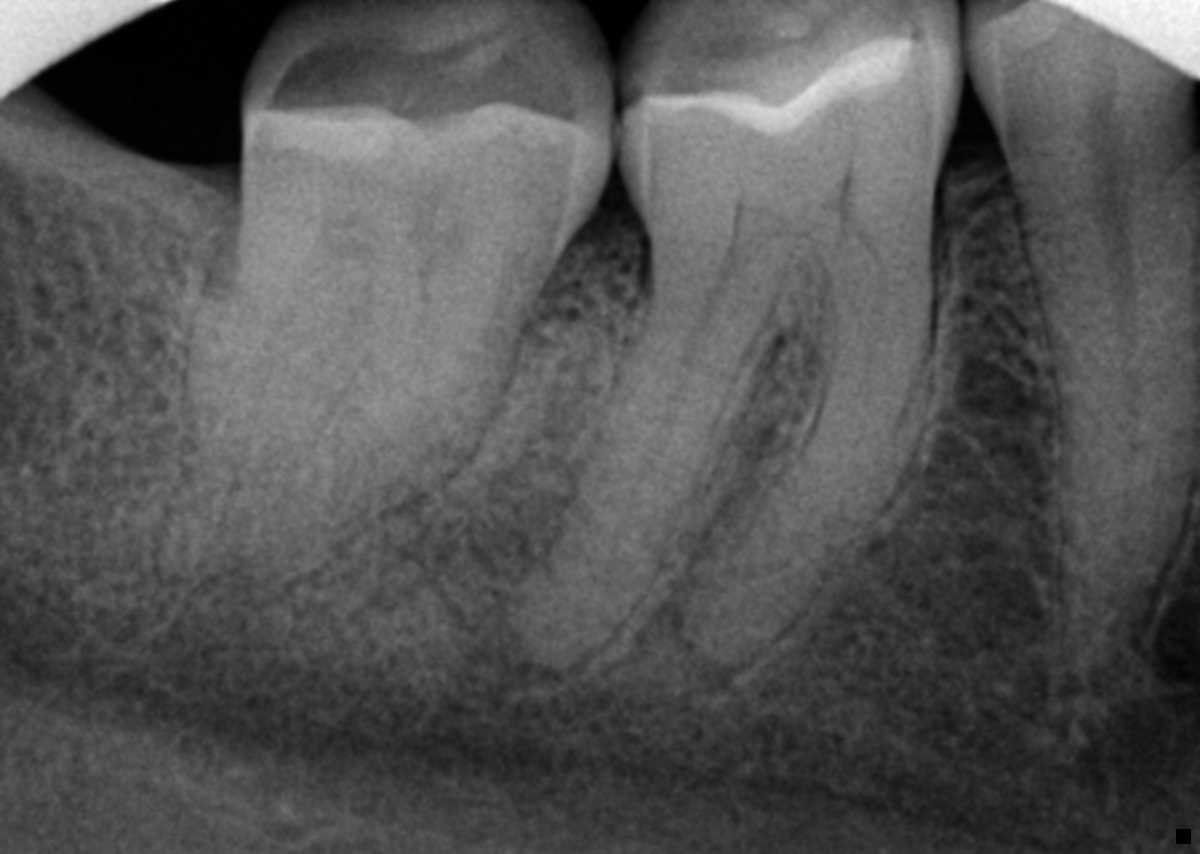Apical Lesion: (457, 456, 586, 700), (631, 605, 736, 705)
Distal Canal: (583, 275, 733, 619)
Distal Root: (510, 269, 777, 665), (163, 206, 367, 584)
Main Canal: (1094, 178, 1145, 612)
Main Root: (1010, 169, 1200, 679)
Mesial Canal: (854, 264, 886, 409), (399, 284, 428, 392)
Mesial Root: (681, 245, 934, 667), (252, 266, 547, 587)
